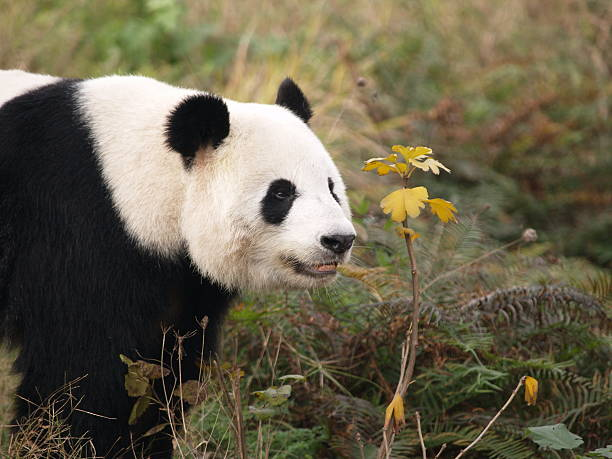panda: (160, 68, 366, 315)
